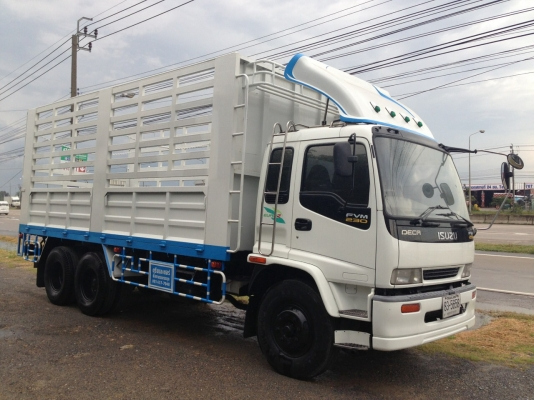truck: (19, 52, 478, 380)
